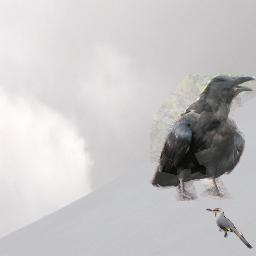Crow: (150, 74, 256, 201)
Cuckoo: (206, 208, 253, 250)
